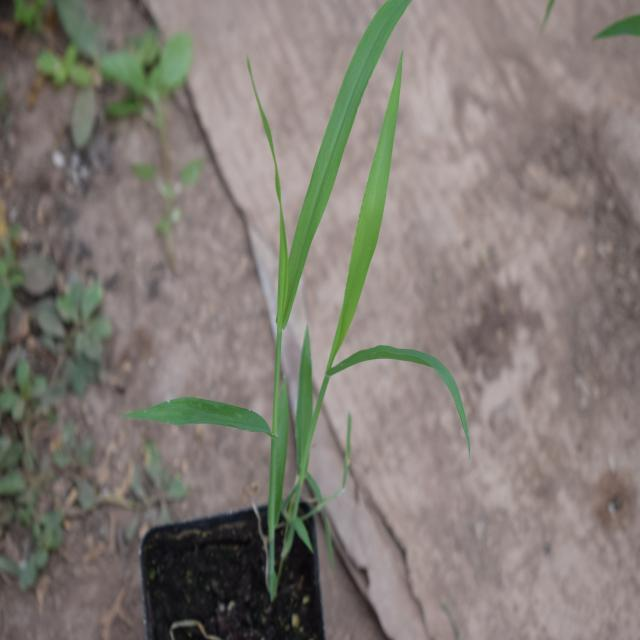crabgrass: (187, 4, 424, 504)
